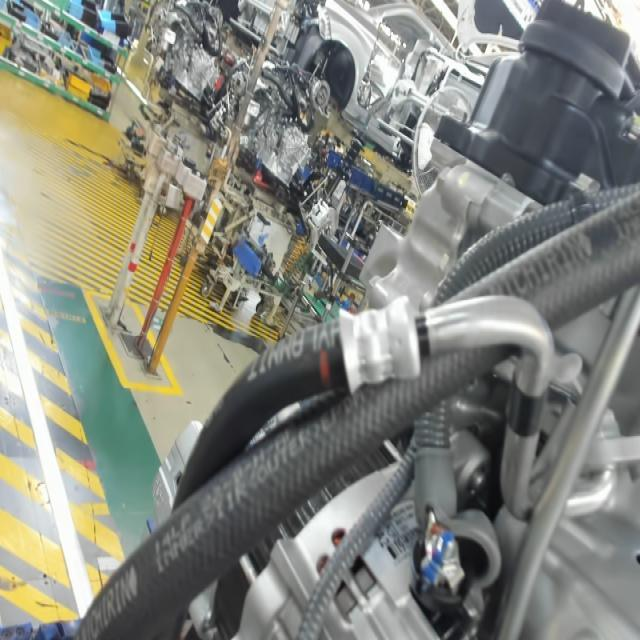Alternator-BA2: (372, 523, 392, 552)
Hose Discharge-HT: (504, 368, 549, 442)
